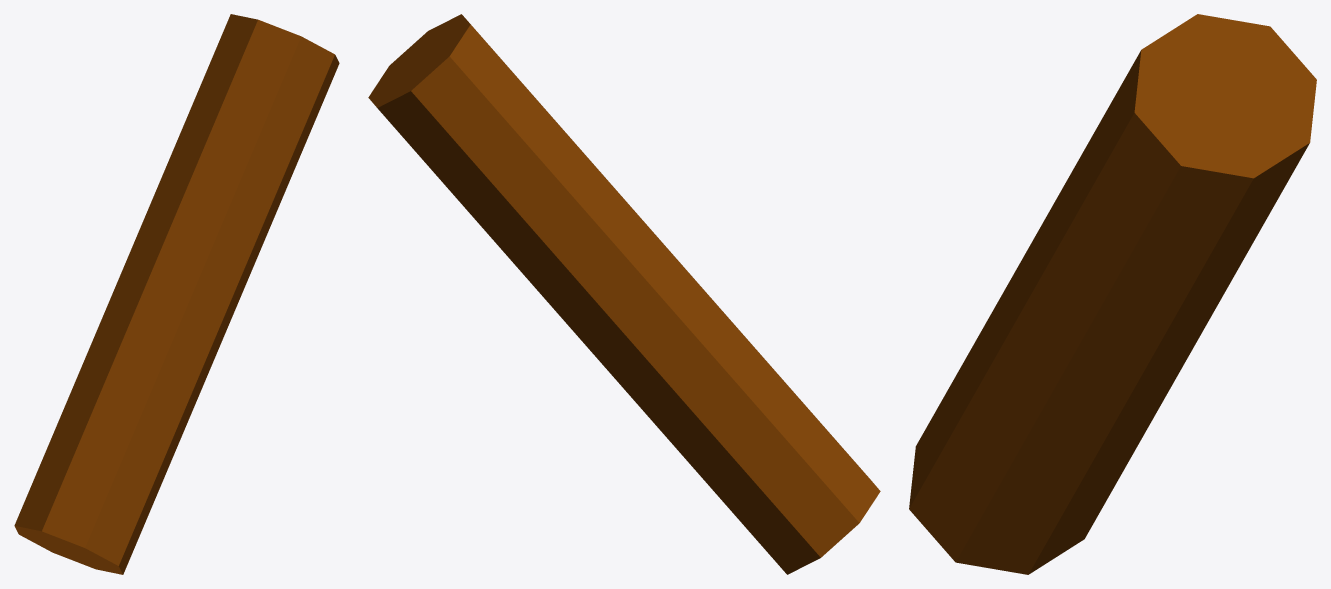
Rendered from Griff.fbx.
The picture shows the model from 3 angles, left to right: view 1: azimuth 30°, elevation 25°; view 2: azimuth 150°, elevation 25°; view 3: azimuth 270°, elevation 25°; orthographic projection. The views are drawn at different scales.
Parts seen in each view (by area): view 1: Griff; view 2: Griff; view 3: Griff.
Part boxes in pixels (left/top/right/bottom): Griff: left=14, top=14, right=339, bottom=574; Griff: left=368, top=14, right=880, bottom=574; Griff: left=909, top=14, right=1316, bottom=574.
Size of the model in its own units: 125 by 149 by 75.57.
